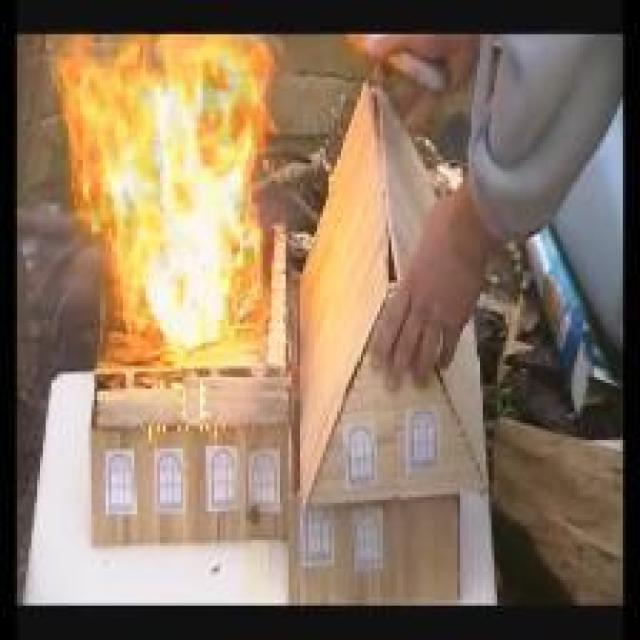fire: (35, 42, 294, 350)
